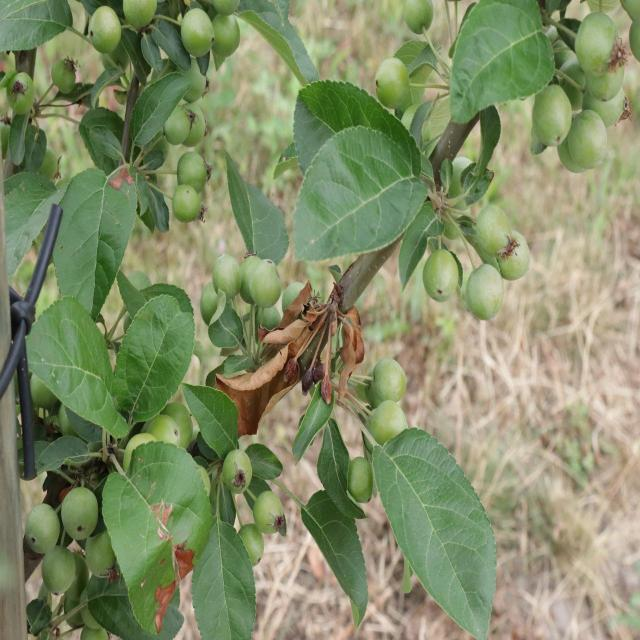-FireBlight-: (272, 283, 366, 390), (212, 345, 302, 421)
